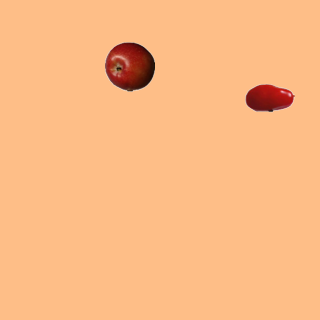Apple Braeburn: (104, 41, 154, 91)
Tomato 2: (244, 72, 294, 122)
